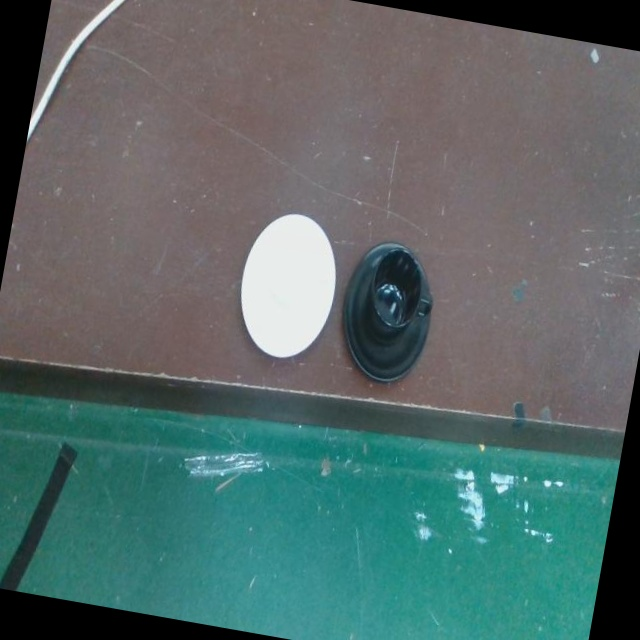black: (339, 238, 434, 387)
white: (239, 209, 337, 365)
